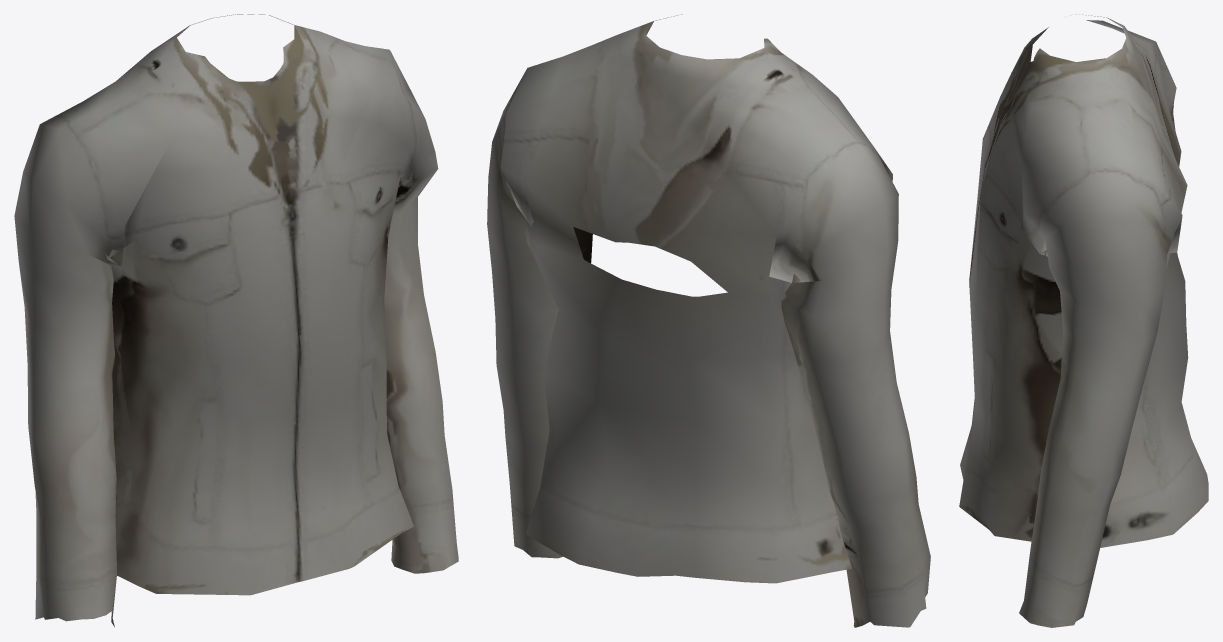
Rendered from 033-shell.glb.
The picture shows the model from 3 angles, left to right: view 1: azimuth 30°, elevation 25°; view 2: azimuth 150°, elevation 25°; view 3: azimuth 270°, elevation 25°; orthographic projection. The views are drawn at different scales.
Parts seen in each view (by area): view 1: geometry_0; view 2: geometry_0; view 3: geometry_0.
Boxes of the visible parts, x1=… form: geometry_0: x1=14, y1=14, x2=458, y2=627; geometry_0: x1=487, y1=14, x2=930, y2=627; geometry_0: x1=959, y1=14, x2=1208, y2=627.
Bounding box in the file's own units: 0.5609 × 0.7337 × 0.329.
Materials: 1 (1 with a texture image).
